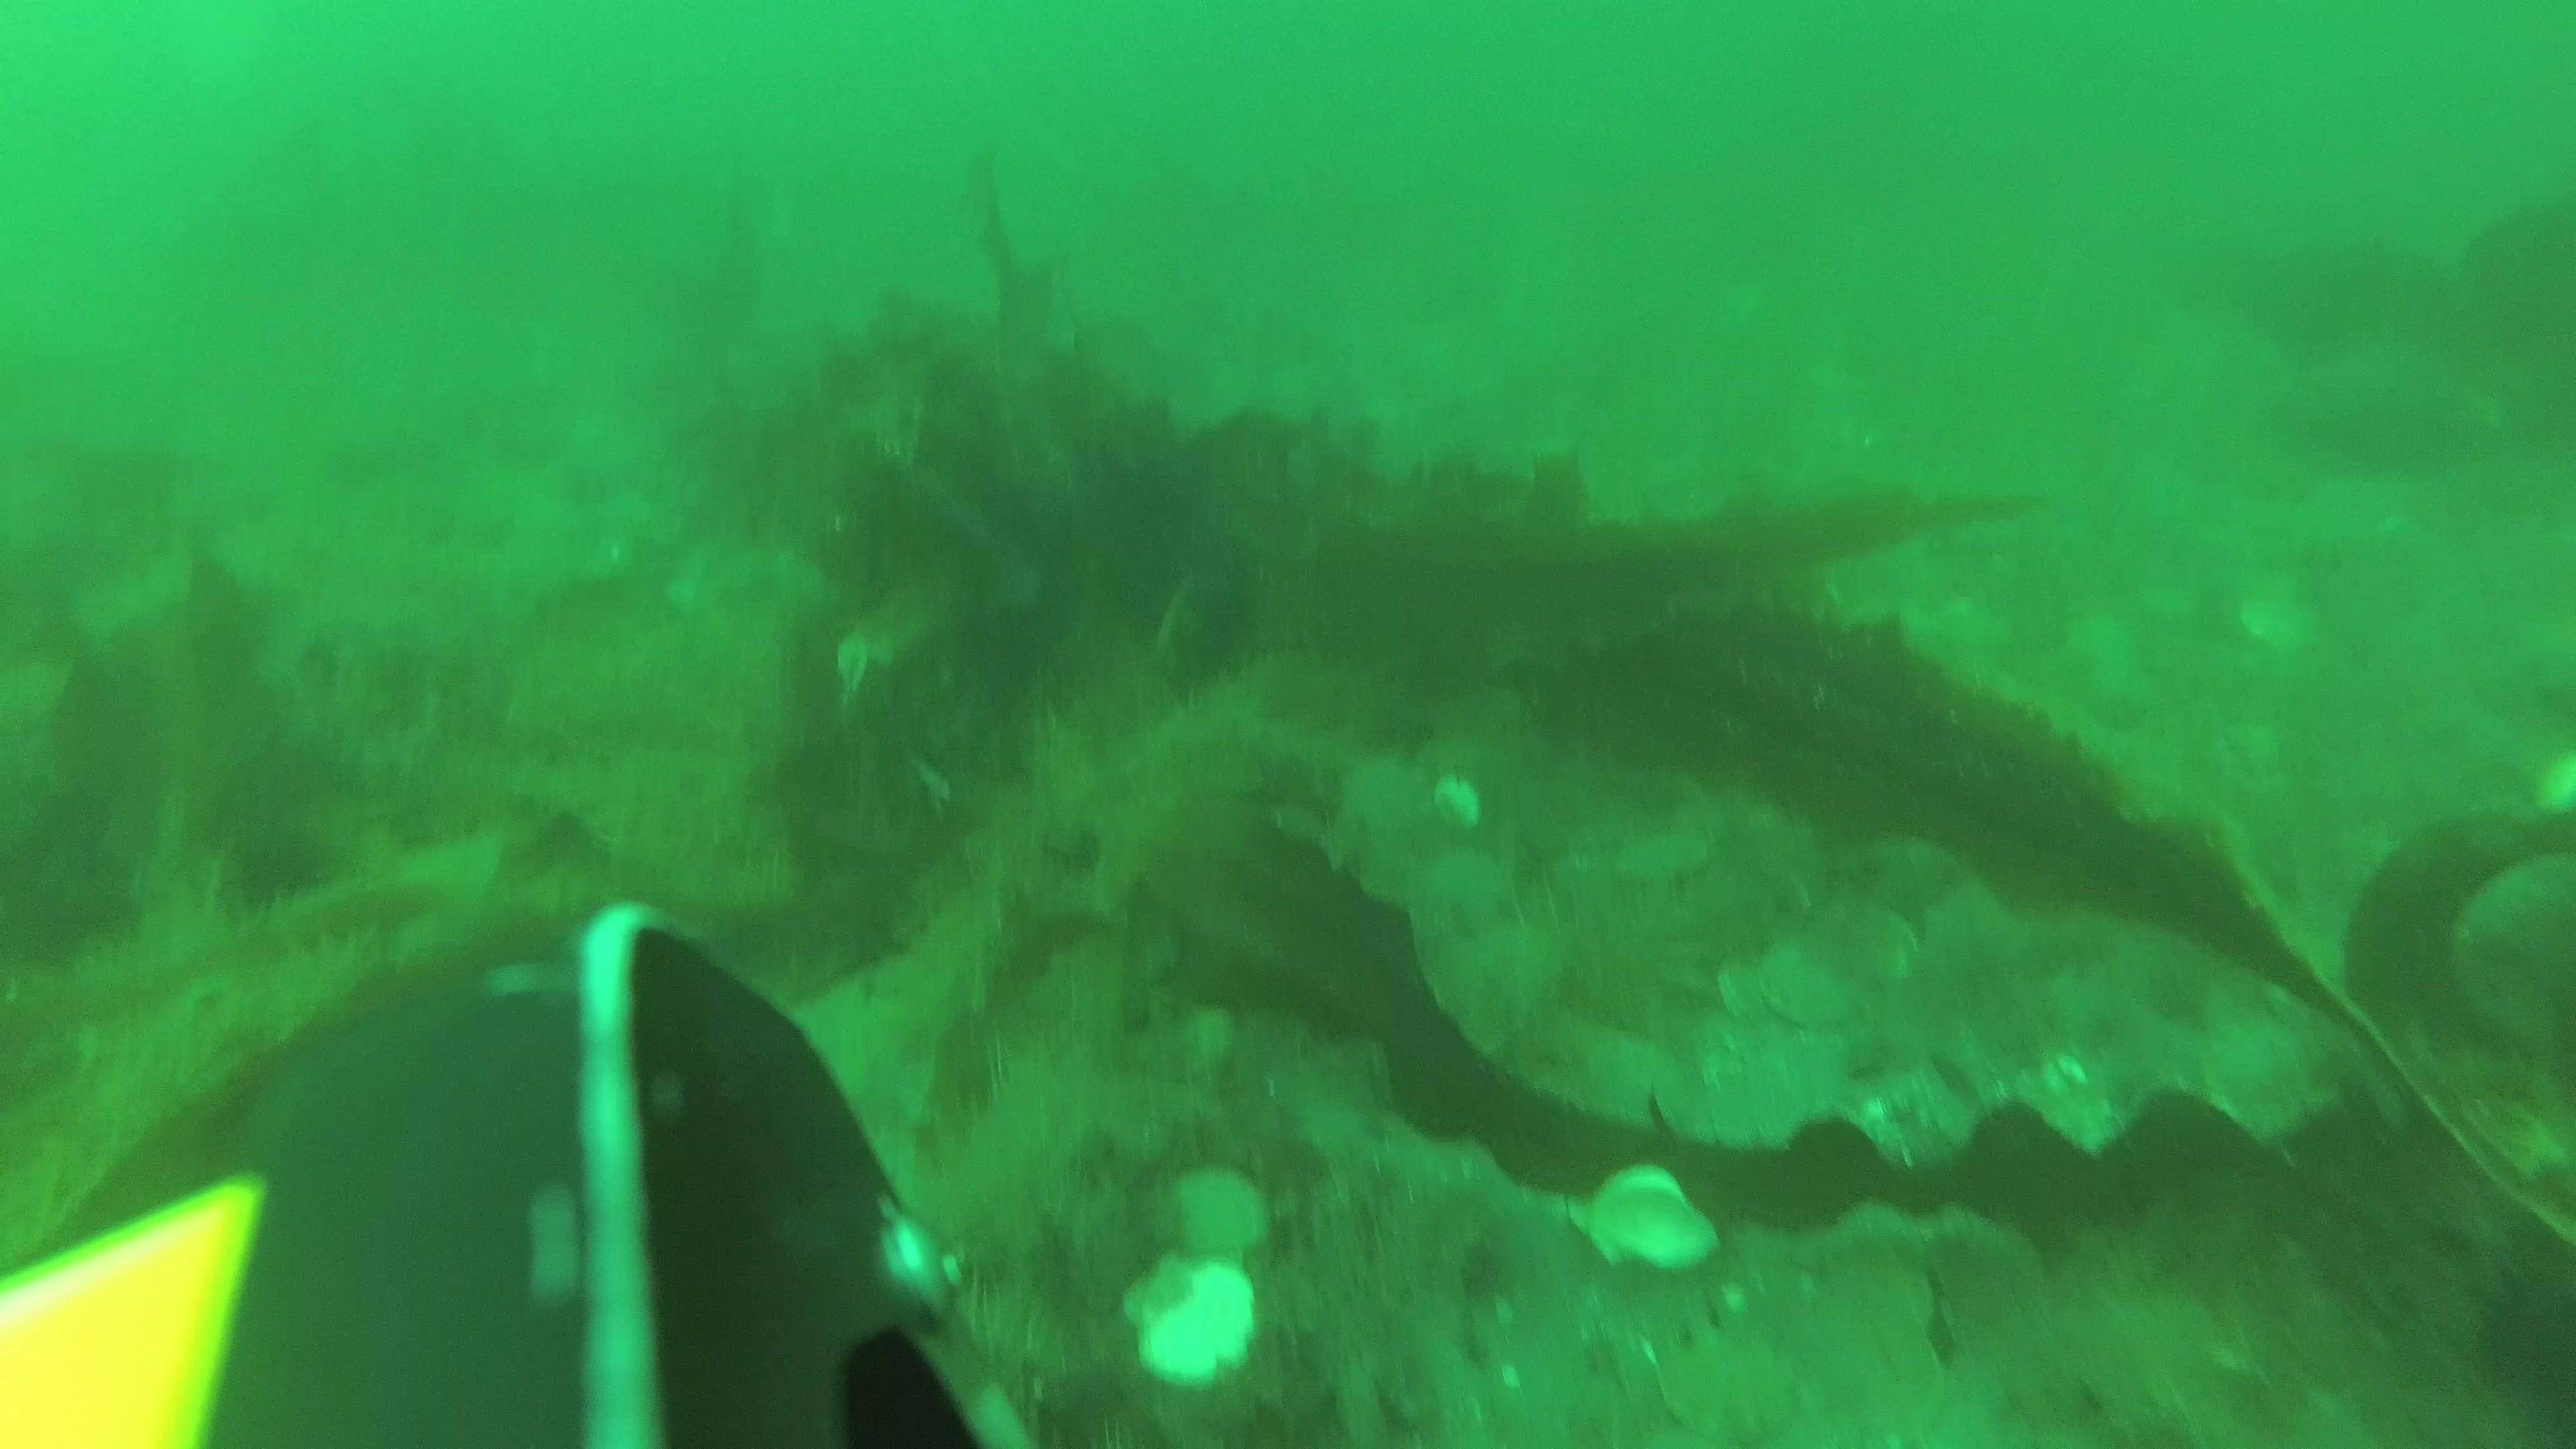scallop: (1555, 1143, 1729, 1277), (1115, 1240, 1272, 1387), (1652, 1330, 1801, 1438), (1824, 1327, 1953, 1445), (1161, 1159, 1281, 1283), (1767, 931, 1867, 1033), (1845, 1256, 1946, 1355), (2233, 586, 2327, 660), (1614, 830, 1723, 892), (1849, 899, 1925, 987), (1709, 943, 1780, 1030)
